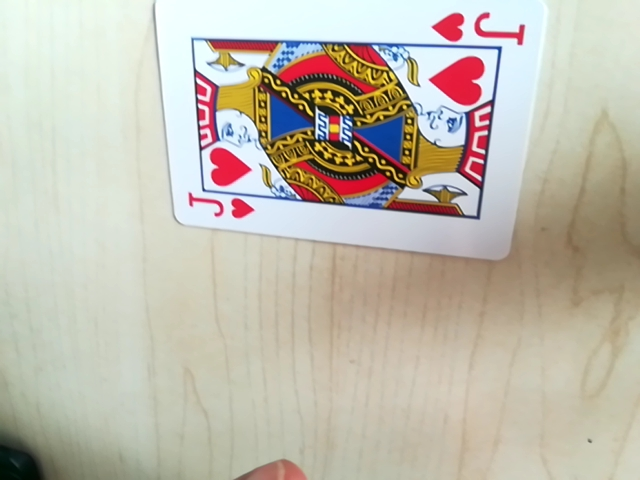hx j: (432, 6, 531, 47), (183, 191, 259, 228)
